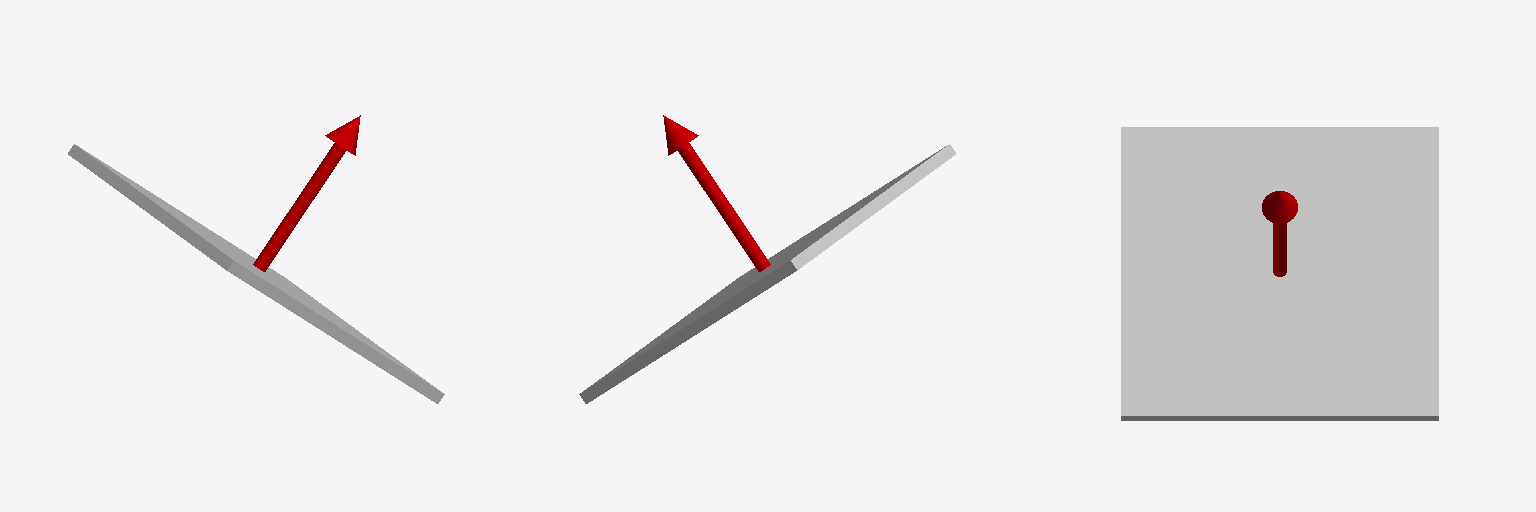
File: normal.obj
3 views of the same model, side by side, from view 1: azimuth 30°, elevation 25°; view 2: azimuth 150°, elevation 25°; view 3: azimuth 270°, elevation 25° (orthographic).
Visible parts, largest first — view 1: Cylinder; view 2: Cylinder; view 3: Cylinder.
Part boxes in pixels (left/top/right/bottom): Cylinder: left=68, top=115, right=444, bottom=403; Cylinder: left=579, top=115, right=955, bottom=403; Cylinder: left=1121, top=127, right=1438, bottom=420.
Bounding box in the file's own units: 1.58 × 1.6 × 2.